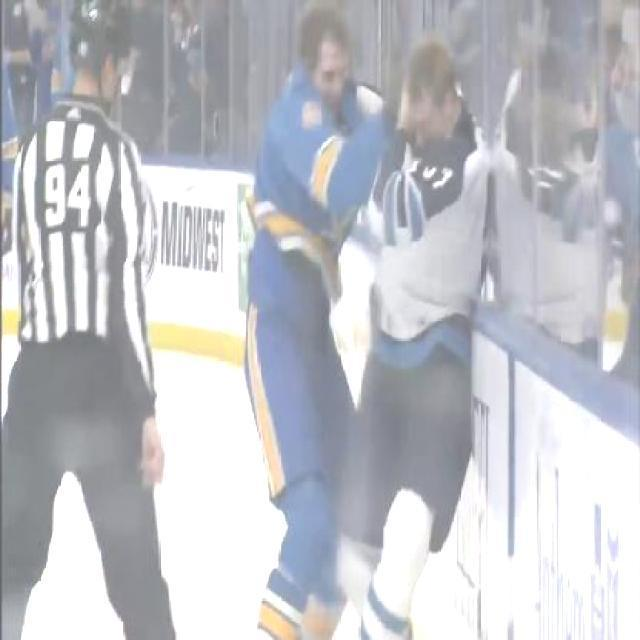fight: (242, 3, 487, 640)
